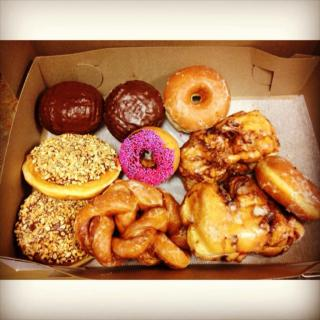Doughnut: (10, 189, 94, 268), (26, 132, 120, 200), (164, 64, 232, 135), (120, 125, 182, 187)
